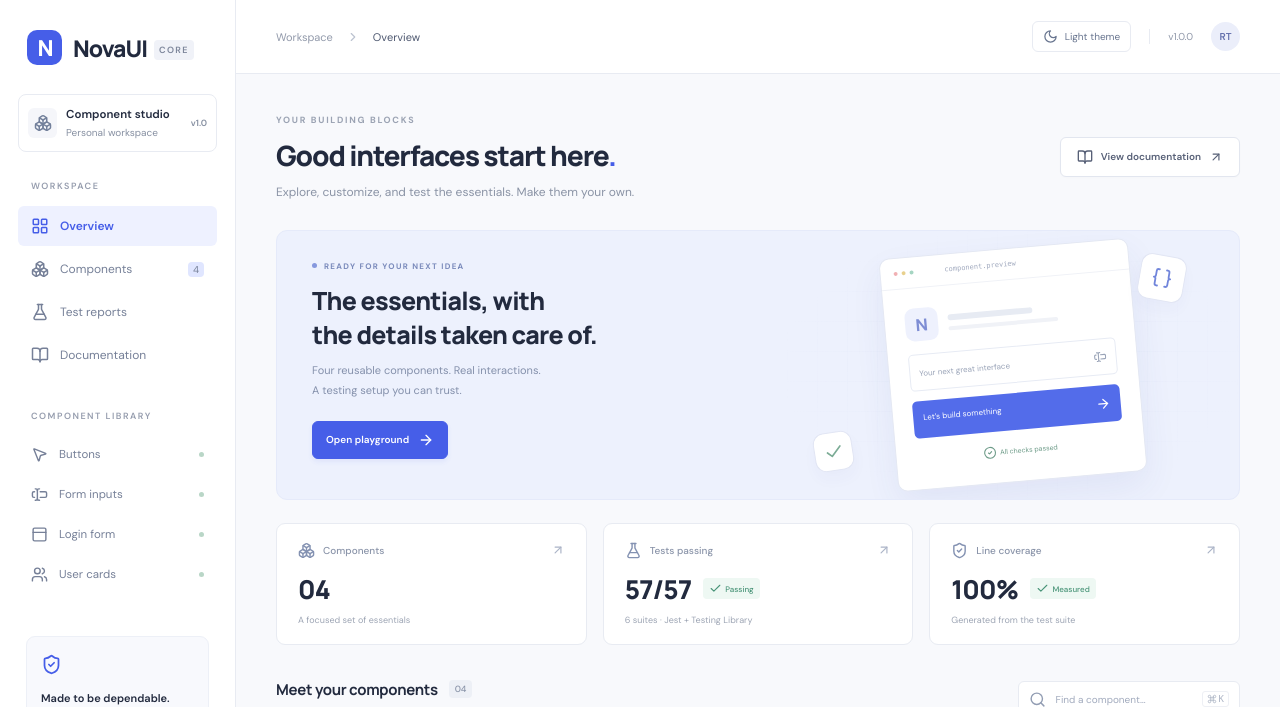
it: Component studio integration › shows contact details in a keyboard-dismissable dialog and restores focus
Click the button "User cards": (118, 574) [18, 556, 217, 593]
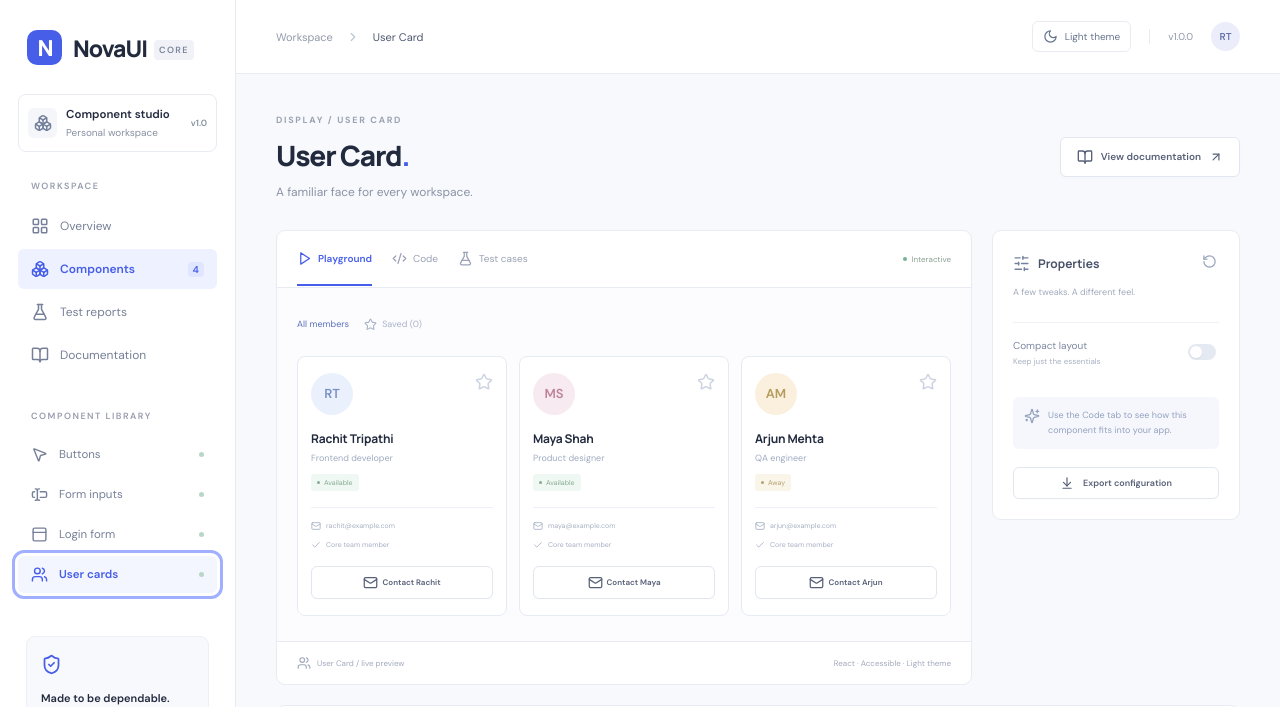
Click the button "Contact Maya": (624, 582) [533, 566, 715, 599]
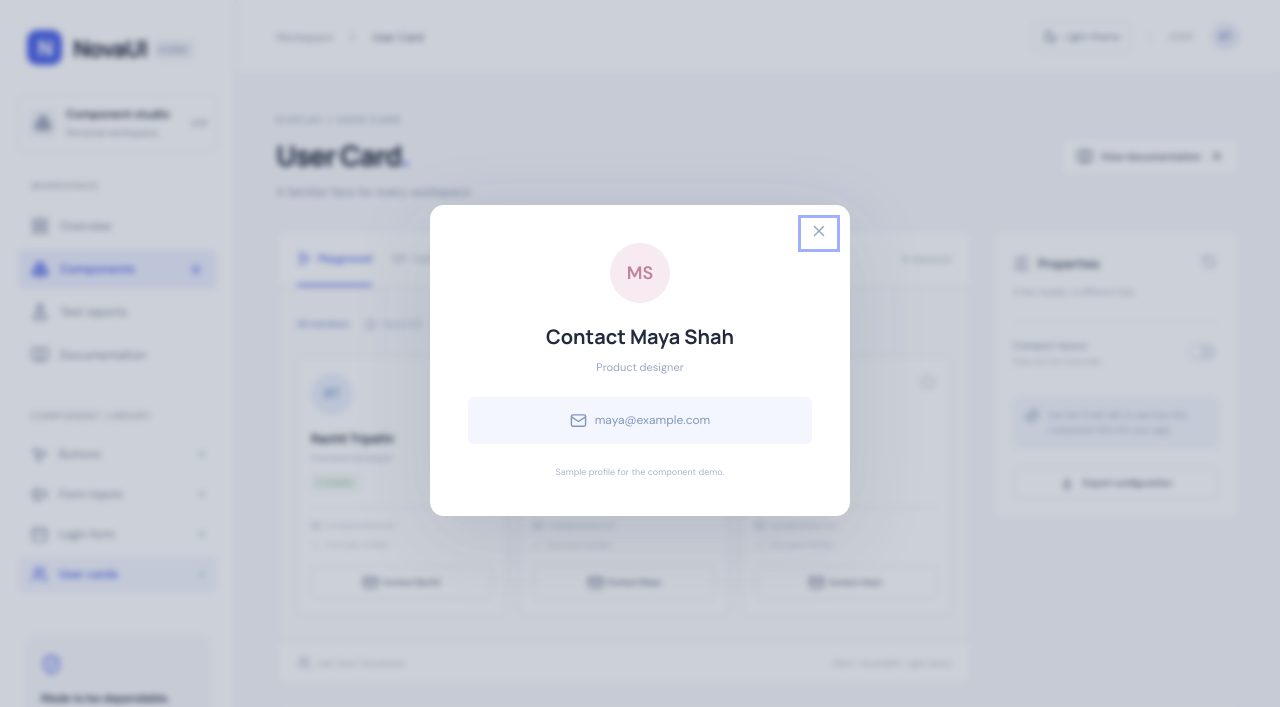
Now the text "maya@example.com" is shown, box [468, 396, 812, 444]
Press Escape
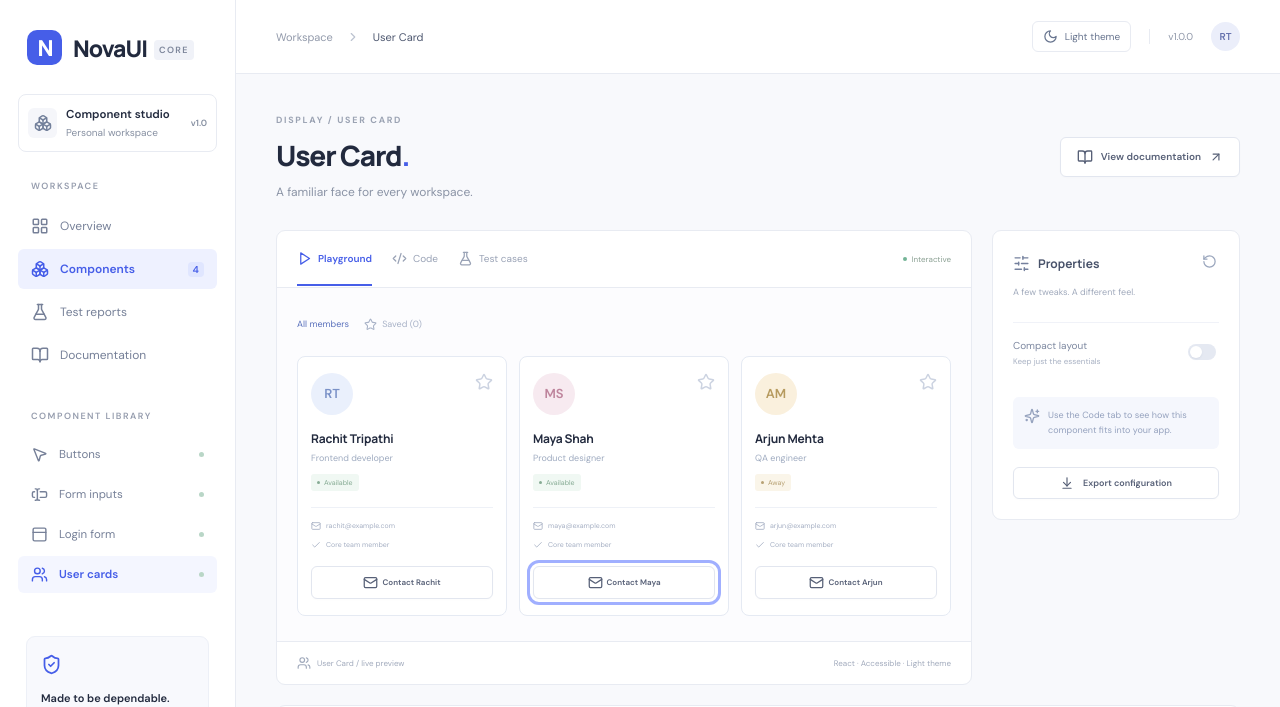
Now the dialog is gone
